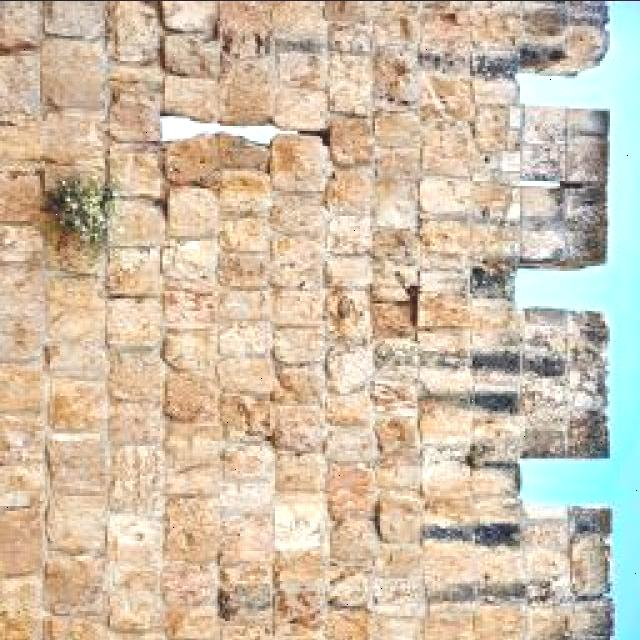crack: (33, 194, 56, 640), (417, 3, 518, 74), (514, 1, 610, 75), (407, 44, 582, 81), (165, 131, 272, 188), (418, 283, 518, 342), (39, 37, 108, 112), (517, 185, 580, 267), (1, 260, 50, 365), (420, 174, 508, 229), (46, 274, 108, 350), (220, 55, 283, 126), (366, 236, 423, 313), (326, 47, 383, 121), (38, 107, 108, 166), (558, 184, 608, 266), (419, 125, 485, 184), (219, 507, 280, 569), (273, 71, 333, 134), (107, 78, 164, 144), (424, 218, 515, 259), (268, 133, 328, 194), (215, 1, 278, 56), (108, 148, 166, 206), (369, 174, 423, 236), (420, 73, 484, 125), (218, 560, 274, 619), (104, 239, 163, 294), (164, 74, 226, 126), (41, 156, 106, 205), (564, 118, 610, 187), (0, 506, 44, 578), (165, 182, 221, 238), (108, 2, 162, 60), (218, 343, 278, 395), (325, 167, 378, 225), (270, 229, 330, 280), (100, 81, 115, 284), (371, 51, 424, 108), (107, 198, 165, 250), (263, 0, 330, 44), (164, 241, 220, 292), (216, 246, 275, 294), (217, 214, 273, 264), (1, 167, 48, 226), (270, 323, 329, 370), (218, 389, 275, 437), (162, 31, 219, 78), (327, 113, 376, 167), (162, 283, 220, 328), (43, 0, 107, 40), (268, 286, 326, 330), (324, 209, 377, 254), (216, 287, 267, 328), (162, 1, 221, 36), (563, 106, 609, 137), (518, 159, 563, 182), (0, 38, 39, 56), (1, 491, 35, 511), (559, 180, 587, 190)
dampness: (173, 179, 503, 640), (7, 15, 185, 635), (263, 100, 337, 636), (162, 115, 297, 149)
vegetation: (51, 173, 116, 245), (467, 250, 521, 305), (52, 225, 107, 275), (322, 287, 369, 342), (40, 213, 74, 260)
